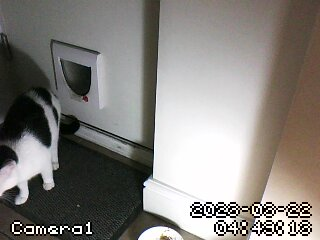bad: (4, 82, 62, 211)
